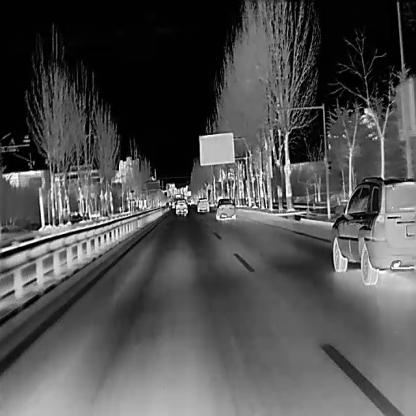car: (329, 174, 415, 285), (214, 196, 234, 220), (174, 197, 187, 214), (196, 196, 208, 211)
